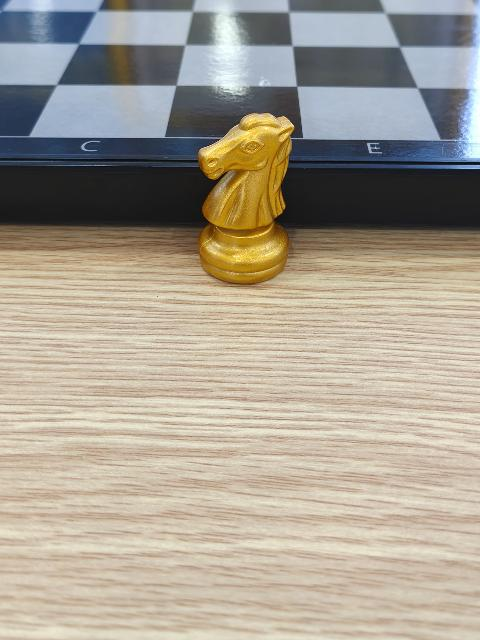black_knight: (198, 111, 294, 286)
